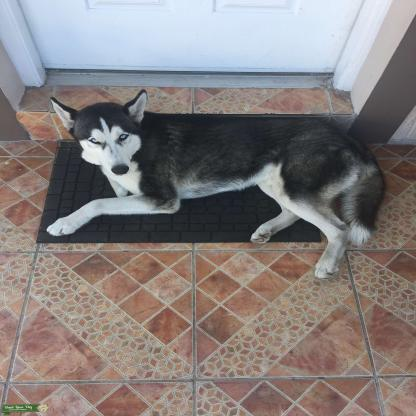husky: (42, 92, 382, 276)
